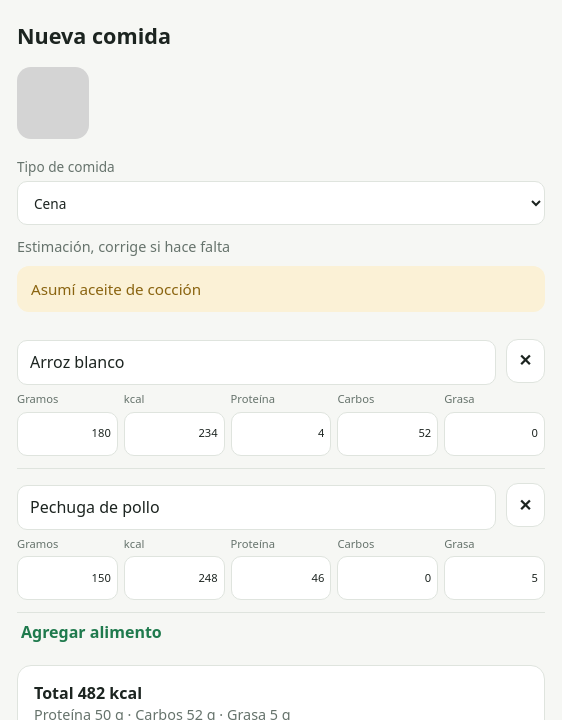
si guardar falla lo dice y conserva lo editado
Expected: the 1st field showing "Arroz blanco" is shown, 17,340 -> 496,385
Replace the text in the 1st field labelled "Gramos" with "90" at (67, 434), box 17,412 -> 118,456
(page scrolled)
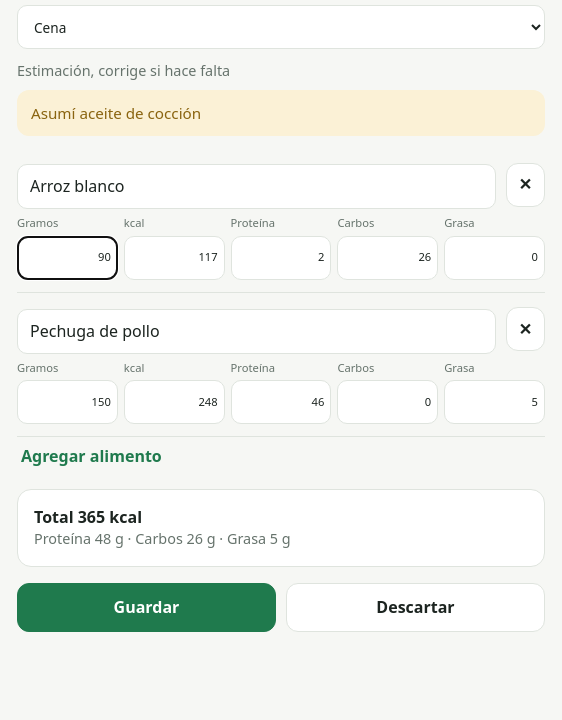
Click the button "Guardar" at (146, 608), box 17,583 -> 276,632
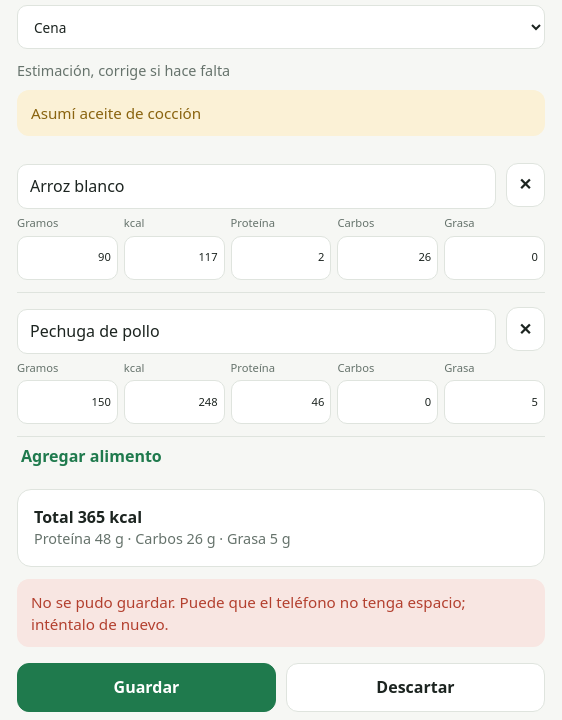
Expected: the button "Guardar" is enabled, 17,663 -> 276,712
Result: the text "No se pudo guardar" is shown at 31,592 -> 466,634
